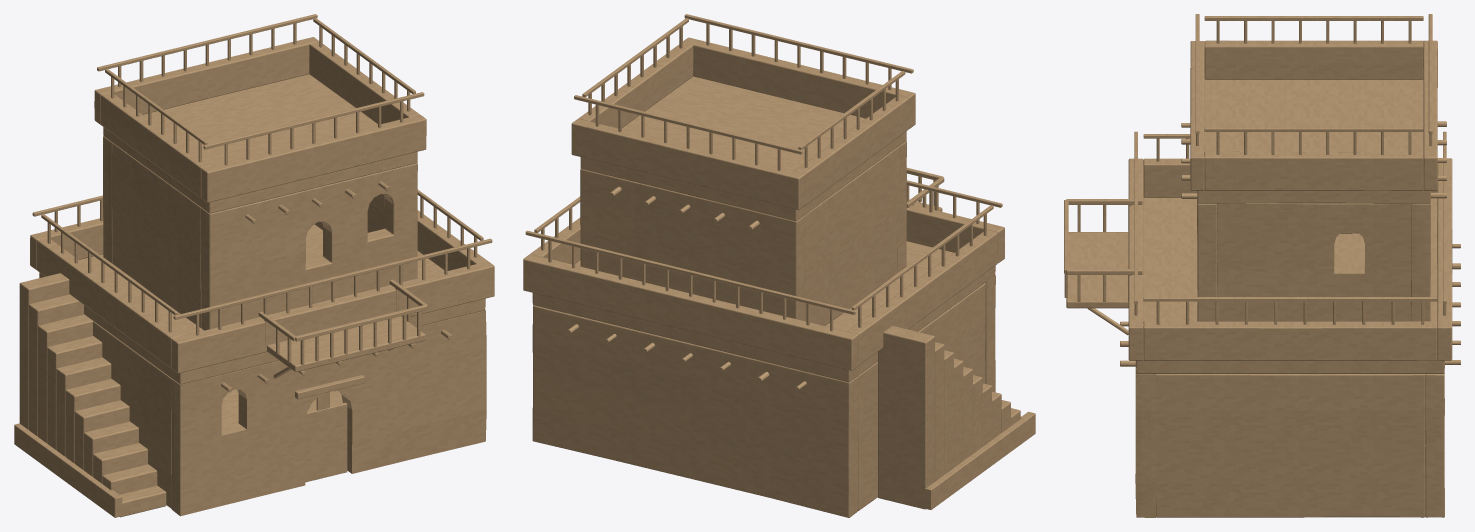
3 views of the same model, side by side, from view 1: azimuth 30°, elevation 25°; view 2: azimuth 150°, elevation 25°; view 3: azimuth 270°, elevation 25° (orthographic). The views are drawn at different scales.
Parts seen in each view (by area): view 1: house; view 2: house; view 3: house.
Boxes of the visible parts, left/top/right/bottom form: house: left=14, top=14, right=494, bottom=517; house: left=523, top=14, right=1035, bottom=517; house: left=1064, top=14, right=1460, bottom=517.
Bounding box in the file's own units: 10.53 × 9.34 × 9.1.
Materials: 1 (1 with a texture image).
